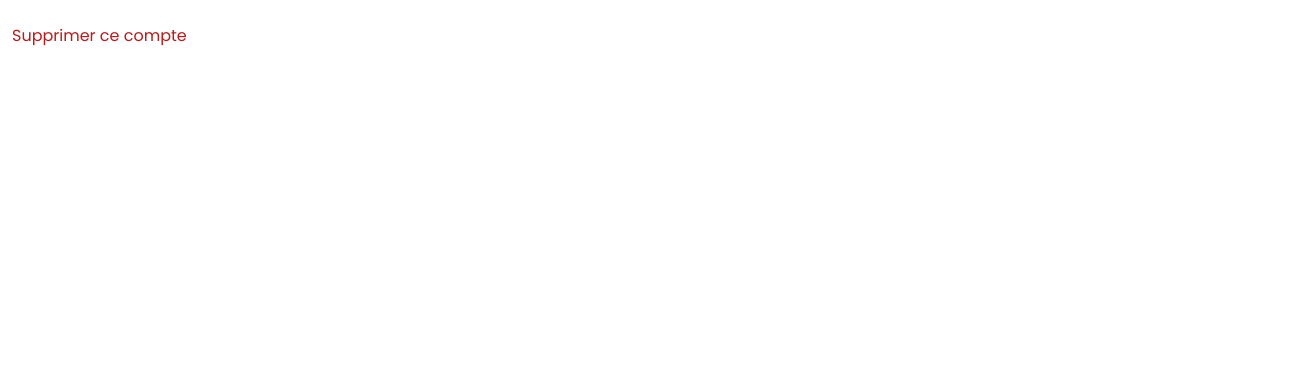
Scenario: la suppression demande de retaper l’adresse, puis supprime
Later steps or results of the test are not shown.
Click the button "Supprimer ce compte": (99, 36) left=12, top=12, right=187, bottom=60
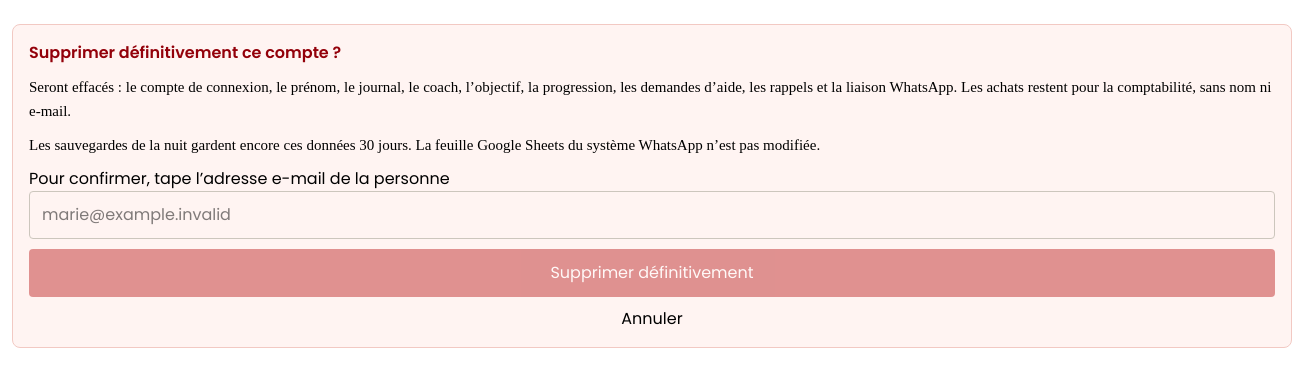
expect the text "Supprimer définitivement ce compte ?" is shown: met, box left=29, top=41, right=341, bottom=64
expect the text "Les achats restent pour la comptabilité, sans nom ni e-mail" is shown: met, box left=29, top=79, right=1271, bottom=119
In the field labelled "Pour confirmer, tape l’adresse e-mail de la personne": (652, 215) left=29, top=191, right=1275, bottom=239, type "autre@example.invalid"
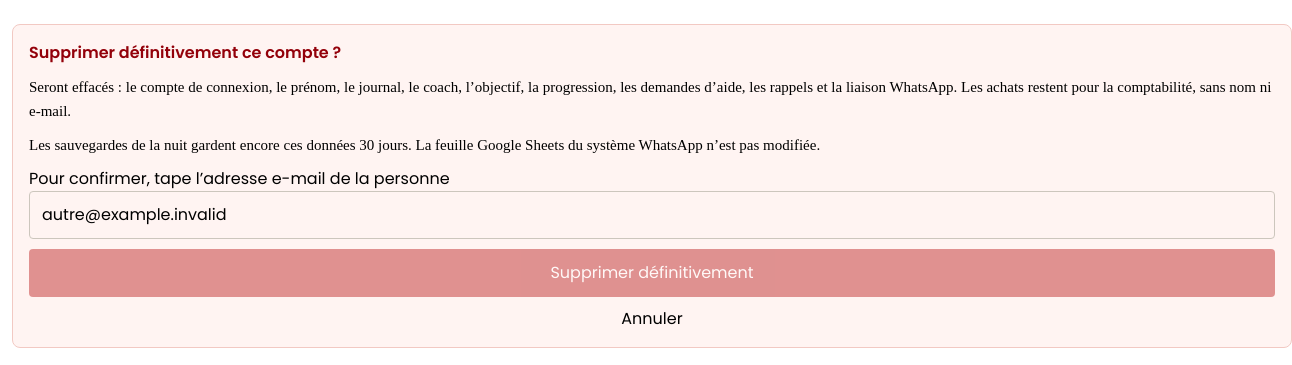
expect the button "Supprimer définitivement" is disabled: met, box left=29, top=249, right=1275, bottom=297
Replace the text in the field labelled "Pour confirmer, tape l’adresse e-mail de la personne" with " Marie@Example.invalid ": (652, 215) left=29, top=191, right=1275, bottom=239
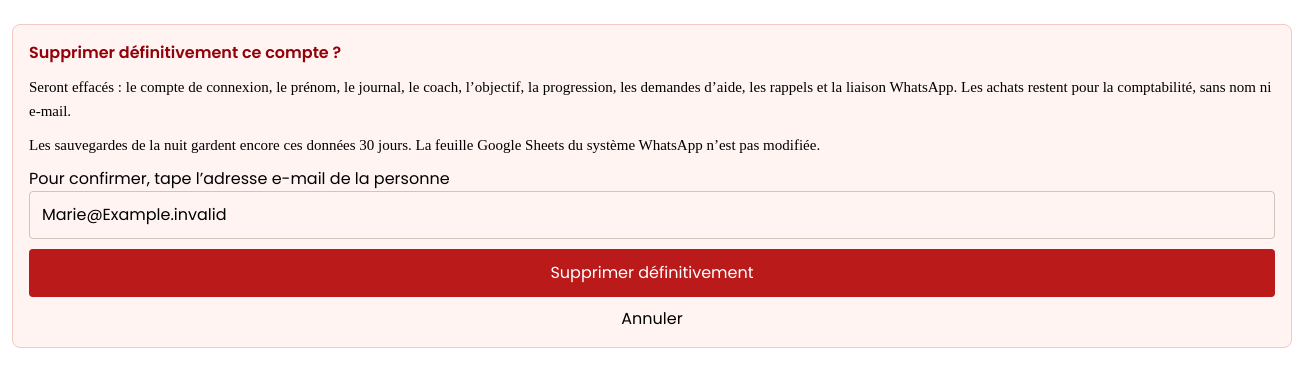
expect the button "Supprimer définitivement" is enabled: met, box left=29, top=249, right=1275, bottom=297
